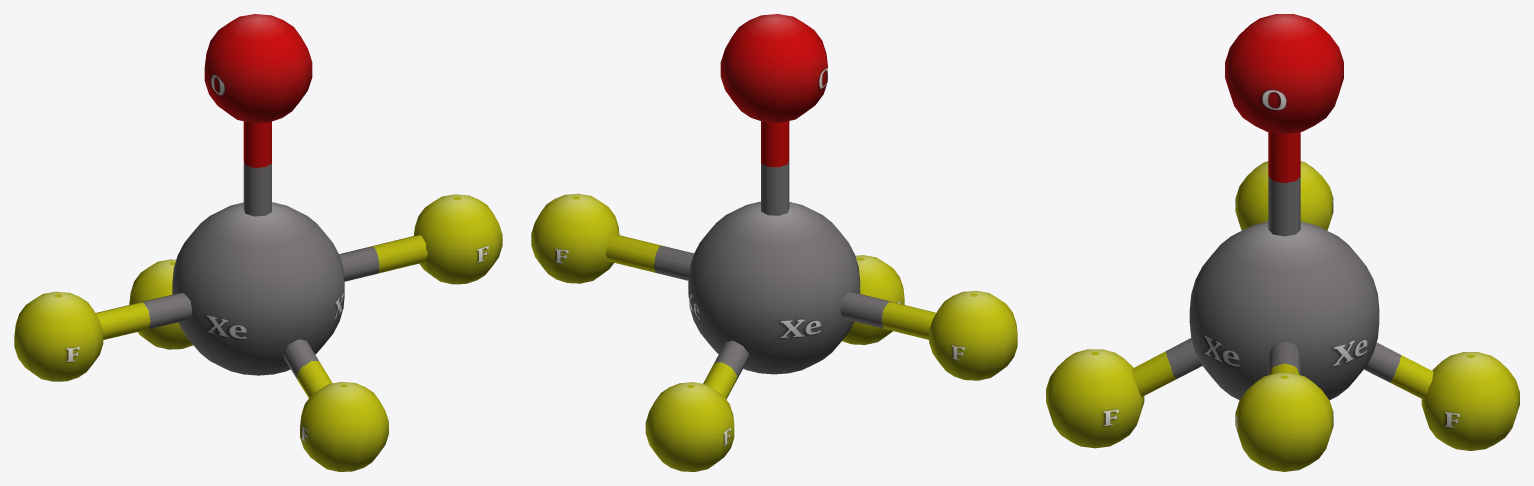
File: XeOF4.dae
3 renders of one model, left to right at view 1: azimuth 30°, elevation 25°; view 2: azimuth 150°, elevation 25°; view 3: azimuth 270°, elevation 25°, orthographic. The views are drawn at different scales.
Parts seen in each view (by area): view 1: polySurface25; view 2: polySurface25; view 3: polySurface25.
Part boxes in pixels (x1,y1,x2,y2): polySurface25: (14, 14, 502, 471); polySurface25: (531, 14, 1017, 471); polySurface25: (1046, 14, 1519, 471).
Bounding box in the file's own units: 2.38 × 1.86 × 1.87.
1 material, 1 textured.
